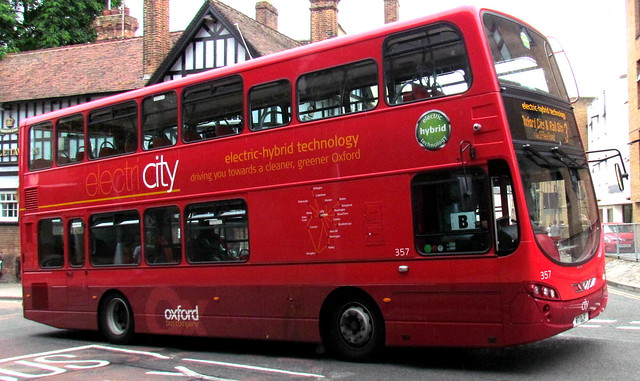bus: (16, 6, 608, 359)
